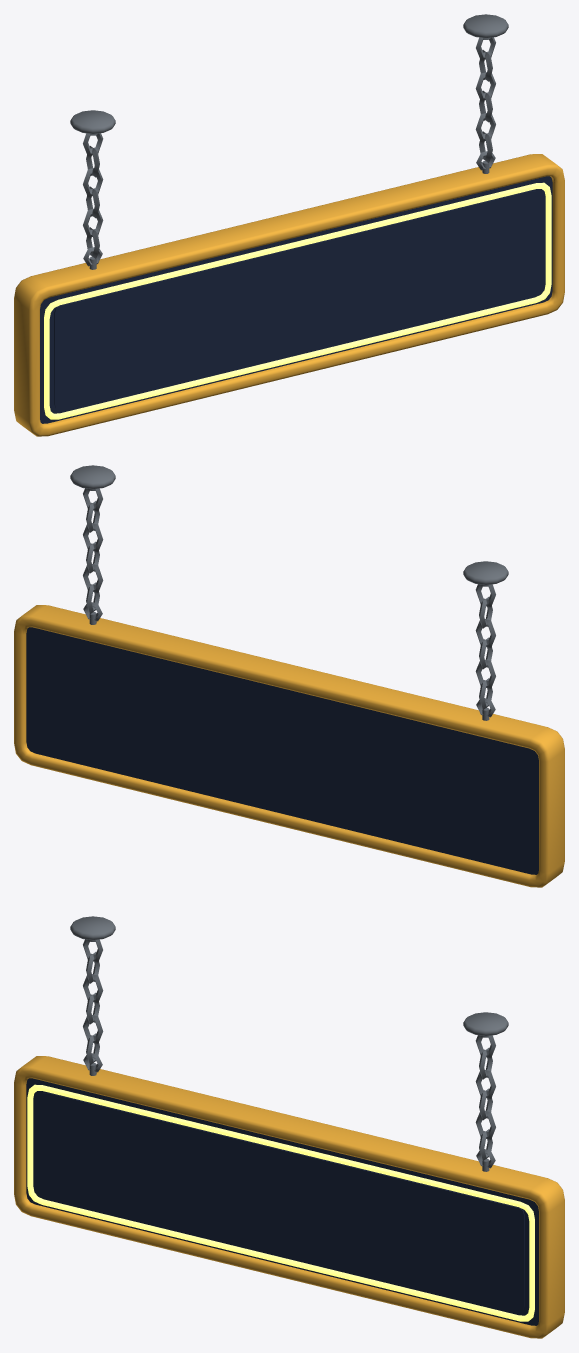
File: Shop_HangingSign.fbx
3 views of the same model, one above another, from view 1: azimuth 30°, elevation 25°; view 2: azimuth 150°, elevation 25°; view 3: azimuth 330°, elevation 25° (orthographic).
Visible parts, largest first — view 1: Screen, Frame, Body, Neon, Hardware; view 2: Body, Frame, Hardware; view 3: Screen, Frame, Body, Neon, Hardware.
Boxes of the visible parts, <box> form: Screen: <box>54,190,536,408</box>; Frame: <box>14,154,564,436</box>; Body: <box>40,176,552,423</box>; Neon: <box>44,182,551,419</box>; Hardware: <box>70,14,508,269</box>; Body: <box>26,627,538,874</box>; Frame: <box>14,605,564,887</box>; Hardware: <box>70,465,508,720</box>; Screen: <box>42,1092,524,1310</box>; Frame: <box>14,1056,564,1338</box>; Body: <box>26,1078,538,1325</box>; Neon: <box>27,1084,534,1321</box>; Hardware: <box>70,916,508,1171</box>.
Bounding box in the file's own units: 600 × 320 × 44.
